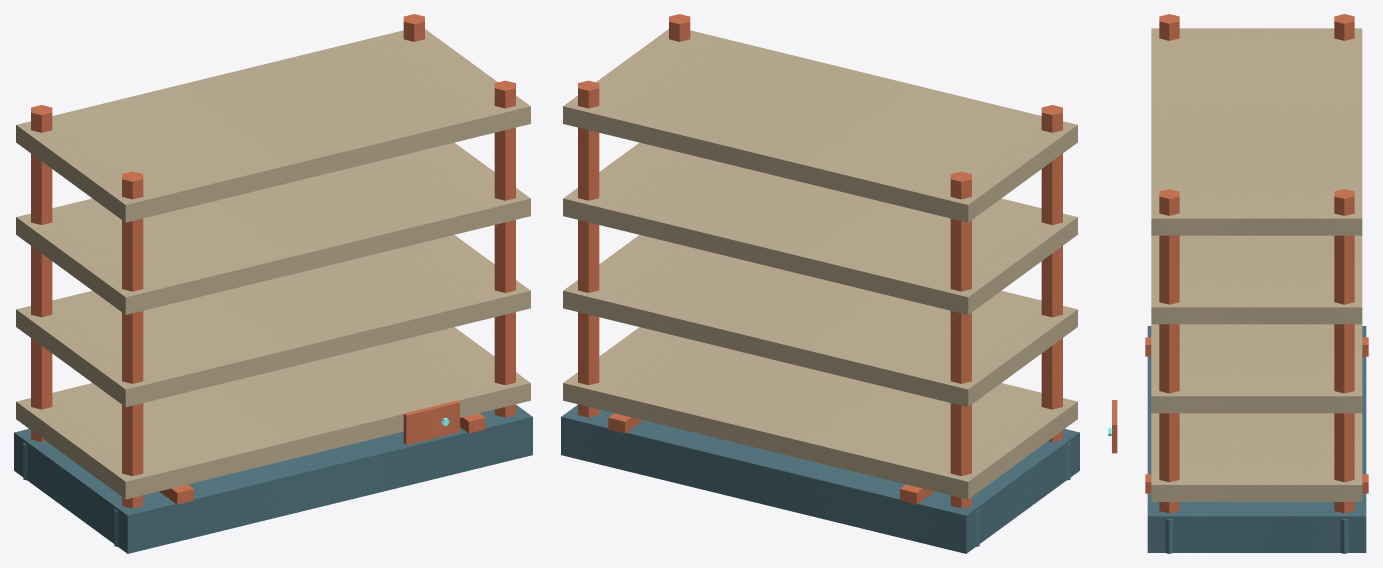
The model's file is atlas100-s048-a06.lod1.glb.
3 views of the same model, side by side, from view 1: azimuth 30°, elevation 25°; view 2: azimuth 150°, elevation 25°; view 3: azimuth 270°, elevation 25° (orthographic). The views are drawn at different scales.
Visible parts, largest first — view 1: atlas100-s048-a06:part-014, atlas100-s048-a06:part-013, atlas100-s048-a06:part-012, atlas100-s048-a06:part-011, atlas100-s048-a06:part-000, atlas100-s048-a06:part-005, atlas100-s048-a06:part-009, atlas100-s048-a06:part-003, atlas100-s048-a06:part-015; view 2: atlas100-s048-a06:part-014, atlas100-s048-a06:part-011, atlas100-s048-a06:part-013, atlas100-s048-a06:part-012, atlas100-s048-a06:part-000, atlas100-s048-a06:part-003, atlas100-s048-a06:part-007, atlas100-s048-a06:part-005; view 3: atlas100-s048-a06:part-014, atlas100-s048-a06:part-012, atlas100-s048-a06:part-013, atlas100-s048-a06:part-011, atlas100-s048-a06:part-000, atlas100-s048-a06:part-009, atlas100-s048-a06:part-007, atlas100-s048-a06:part-003, atlas100-s048-a06:part-005.
Boxes of the visible parts, x1,y1,x2,y2 form: atlas100-s048-a06:part-014: (16,29,530,222); atlas100-s048-a06:part-013: (16,142,530,314); atlas100-s048-a06:part-012: (16,235,530,406); atlas100-s048-a06:part-011: (16,327,530,499); atlas100-s048-a06:part-000: (14,405,532,553); atlas100-s048-a06:part-005: (122,171,143,508); atlas100-s048-a06:part-009: (494,80,515,417); atlas100-s048-a06:part-003: (31,105,52,441); atlas100-s048-a06:part-015: (403,400,459,444); atlas100-s048-a06:part-014: (563,29,1077,222); atlas100-s048-a06:part-011: (563,327,1077,499); atlas100-s048-a06:part-013: (563,142,1077,314); atlas100-s048-a06:part-012: (563,235,1077,406); atlas100-s048-a06:part-000: (561,405,1079,553); atlas100-s048-a06:part-003: (950,171,971,508); atlas100-s048-a06:part-007: (578,80,599,417); atlas100-s048-a06:part-005: (1041,105,1062,441); atlas100-s048-a06:part-014: (1151,28,1362,235); atlas100-s048-a06:part-012: (1151,324,1362,413); atlas100-s048-a06:part-013: (1151,235,1362,324); atlas100-s048-a06:part-011: (1151,413,1362,501); atlas100-s048-a06:part-000: (1147,326,1366,552); atlas100-s048-a06:part-009: (1159,189,1179,513); atlas100-s048-a06:part-007: (1334,189,1354,513); atlas100-s048-a06:part-003: (1334,14,1354,40); atlas100-s048-a06:part-005: (1159,14,1179,40).
Size of the model in its own units: 2.91 by 2.48 by 1.66.
4 materials, 4 textured.
